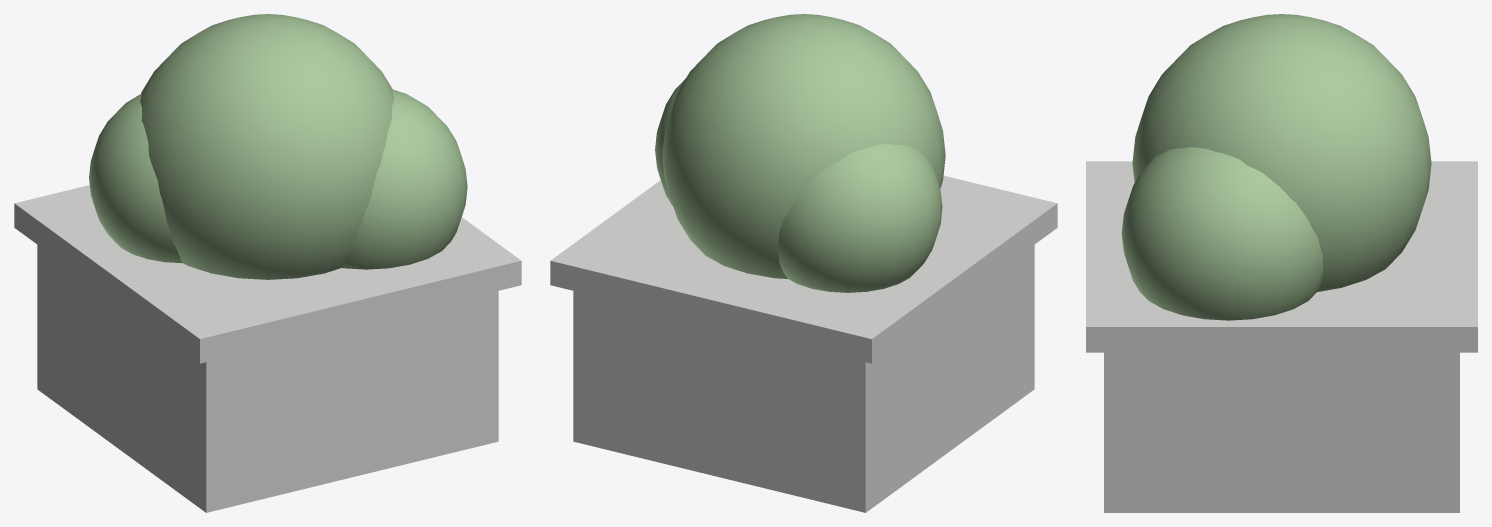
File: planter.glb
3 renders of one model, left to right at view 1: azimuth 30°, elevation 25°; view 2: azimuth 150°, elevation 25°; view 3: azimuth 270°, elevation 25°, orthographic. The views are drawn at different scales.
Visible parts, largest first — view 1: pot, bush; view 2: pot, bush; view 3: pot, bush.
Part boxes in pixels (x1,y1,x2,y2): pot: [14, 185, 521, 512]; bush: [89, 14, 467, 279]; pot: [550, 175, 1057, 512]; bush: [655, 14, 945, 292]; pot: [1086, 161, 1477, 512]; bush: [1121, 14, 1431, 320].
Bounding box in the file's own units: 1.1 × 1.27 × 1.1.
